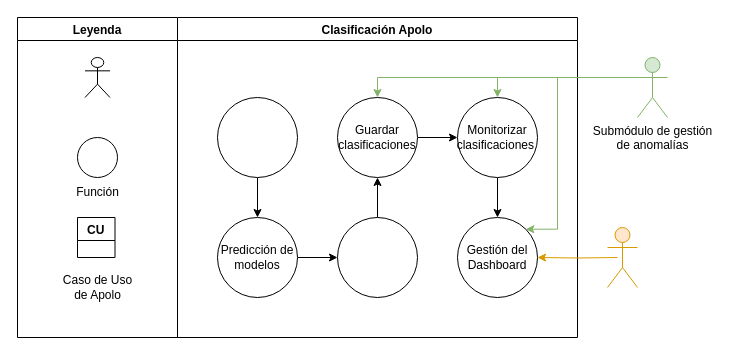
This 729x355 diagram has some shape labels left out. Each missing label, with the centre of its shape:
"Actor" goes at (x=97, y=77).
"Elección de los resultados de los modelos" goes at (x=377, y=257).
"Elector de Módulos por Cluster" goes at (x=257, y=137).
"Usuario identificado (Administrador)" goes at (x=622, y=257).
